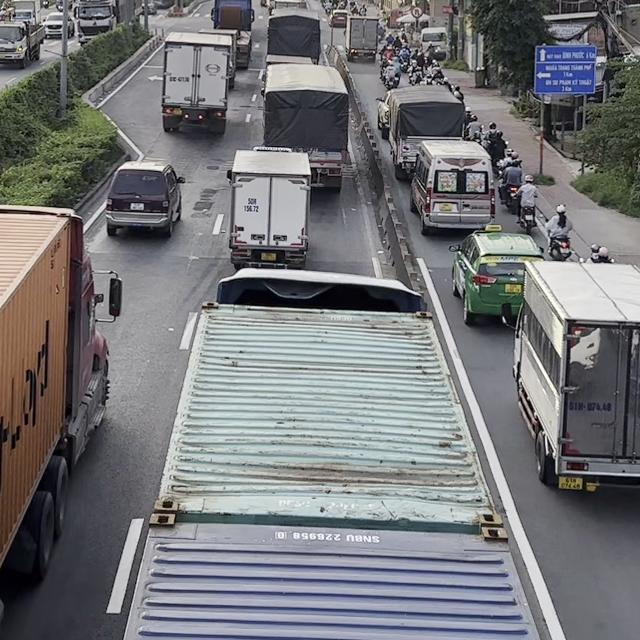car: (448, 225, 545, 328), (409, 138, 496, 235), (104, 158, 185, 237)
motorcycle: (546, 231, 572, 261), (516, 202, 537, 234), (502, 183, 519, 210)
truck: (120, 266, 541, 639), (0, 202, 122, 640), (501, 259, 640, 493), (261, 63, 350, 194), (226, 146, 312, 270), (160, 30, 232, 135), (388, 85, 464, 180), (266, 7, 322, 64), (210, 0, 255, 70), (0, 7, 46, 69), (343, 15, 379, 61)
